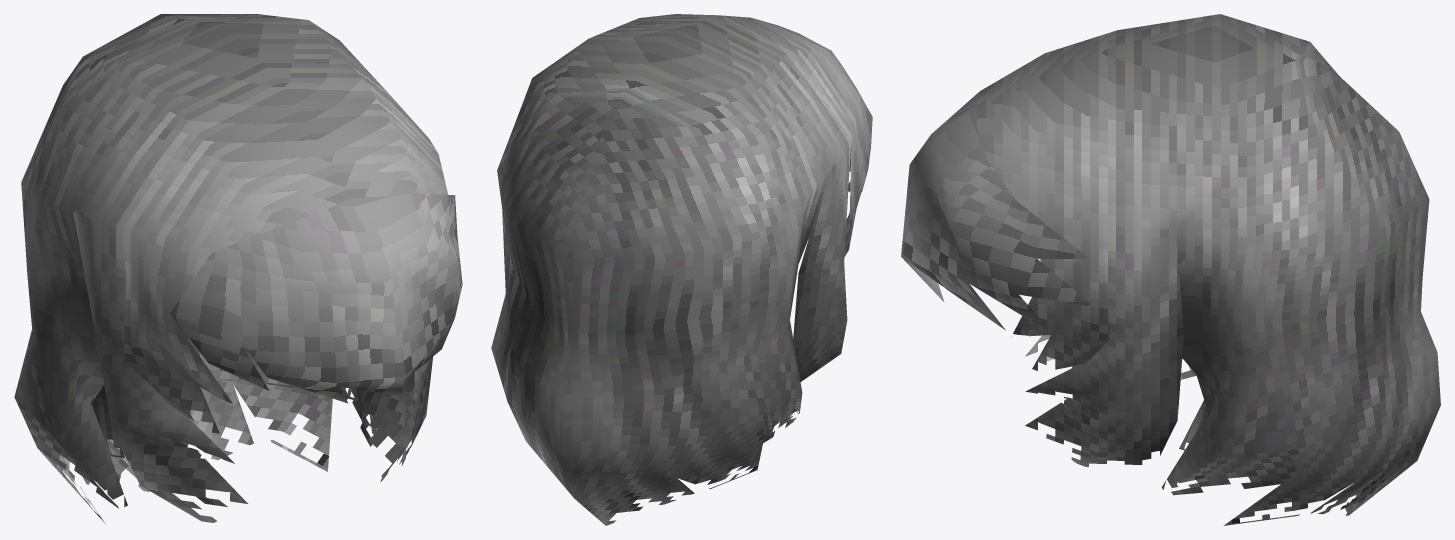
File: m_hair007.obj
3 renders of one model, left to right at view 1: azimuth 30°, elevation 25°; view 2: azimuth 150°, elevation 25°; view 3: azimuth 270°, elevation 25°, orthographic. The views are drawn at different scales.
Visible parts, largest first — view 1: editpl_m-0000-1829; view 2: editpl_m-0000-1829; view 3: editpl_m-0000-1829.
Boxes of the visible parts, x1=… form: editpl_m-0000-1829: x1=14, y1=14, x2=462, y2=524; editpl_m-0000-1829: x1=491, y1=14, x2=872, y2=525; editpl_m-0000-1829: x1=901, y1=14, x2=1440, y2=525.
Bounding box in the file's own units: 18.06 × 26.38 × 26.86.
Materials: 1 (1 with a texture image).
